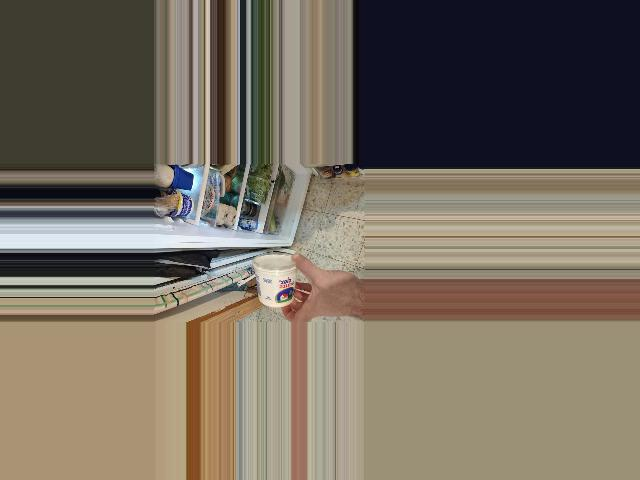cotage: (257, 256, 300, 303)
